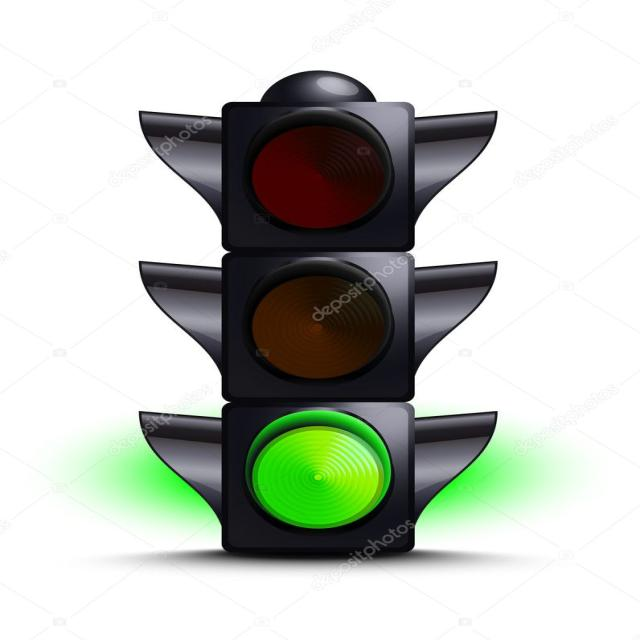green: (238, 413, 396, 532)
